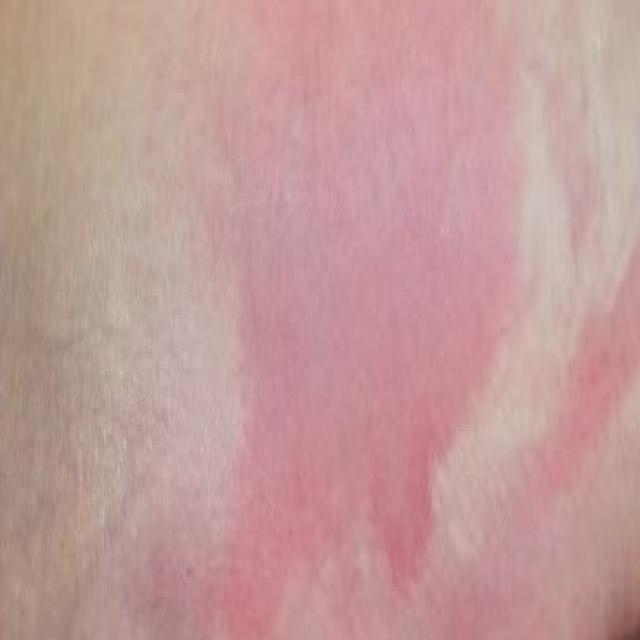stage-1: (137, 2, 528, 636), (436, 251, 640, 640)
